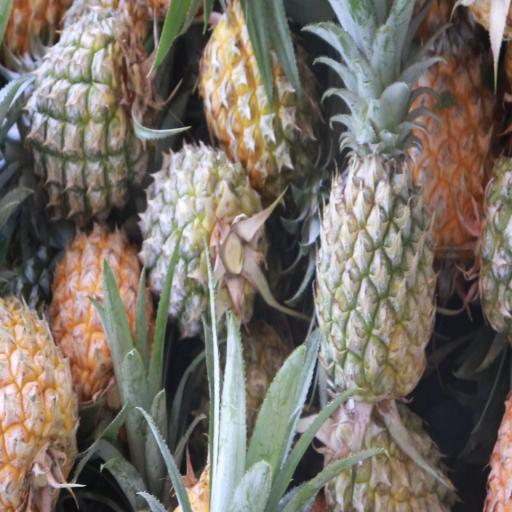------------------------------: (204, 10, 320, 186), (144, 147, 258, 326), (34, 45, 148, 221)
Pineapple - v8 v1: (410, 23, 494, 232), (0, 296, 79, 508), (57, 235, 153, 405)
